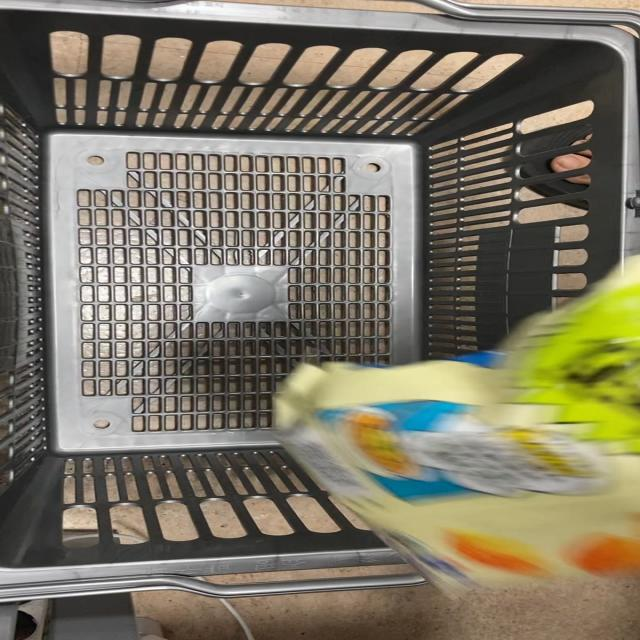ggobukchip: (270, 254, 640, 610)
